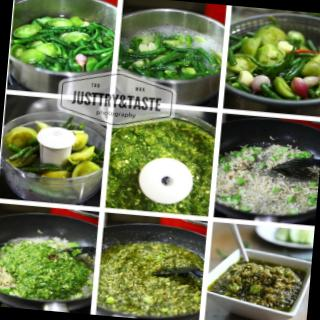Cabai Hijau: (105, 112, 217, 217), (97, 236, 206, 320), (1, 231, 96, 305)
